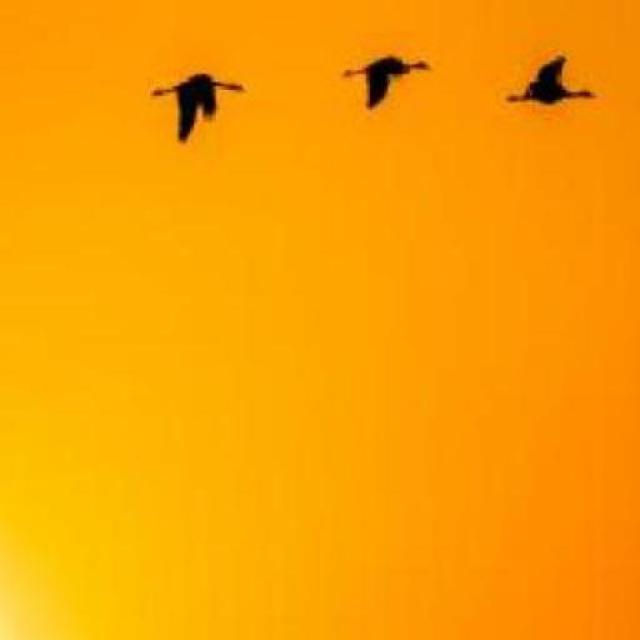airplane: (149, 74, 245, 144), (344, 54, 434, 116), (508, 54, 598, 112)
